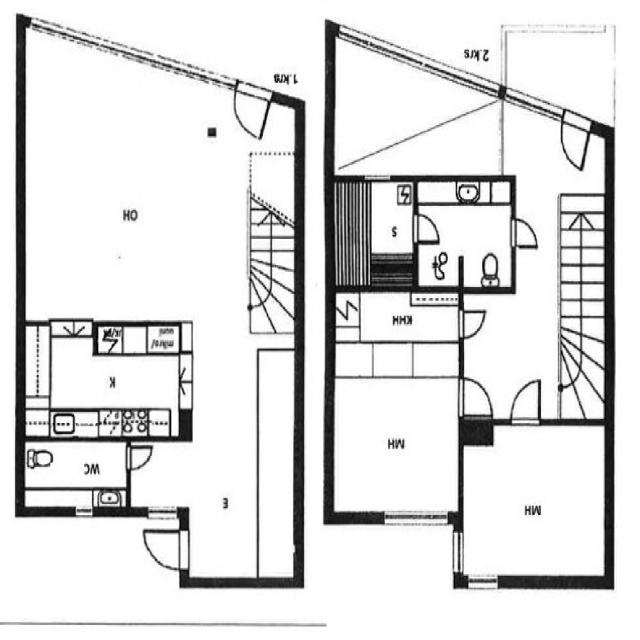door: (414, 179, 518, 289), (457, 371, 550, 423), (139, 512, 188, 576), (233, 79, 275, 141), (462, 66, 503, 120), (506, 371, 545, 426), (456, 373, 496, 420), (508, 213, 543, 255), (456, 304, 490, 344), (410, 209, 443, 247), (124, 438, 157, 476)
window: (374, 502, 458, 536), (446, 524, 470, 581), (461, 570, 504, 598), (69, 502, 100, 522), (365, 170, 394, 184)
zone: (17, 78, 273, 323), (328, 339, 464, 521), (460, 420, 610, 584), (28, 321, 182, 443), (502, 33, 610, 185), (415, 178, 515, 289), (19, 437, 132, 515), (369, 175, 417, 279), (330, 175, 368, 286)
